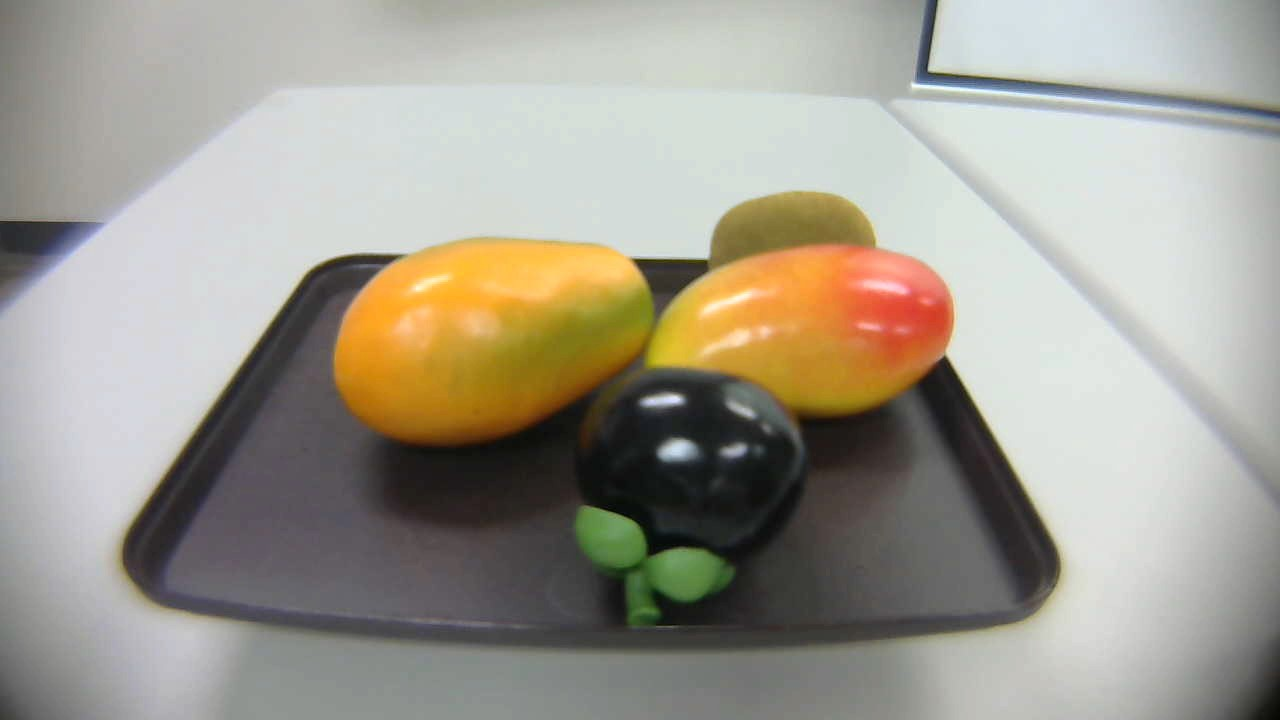kiwi fruit: (710, 183, 892, 286)
mangosteen: (565, 363, 819, 632)
papya: (320, 228, 665, 461)
red mango: (647, 239, 962, 431)
